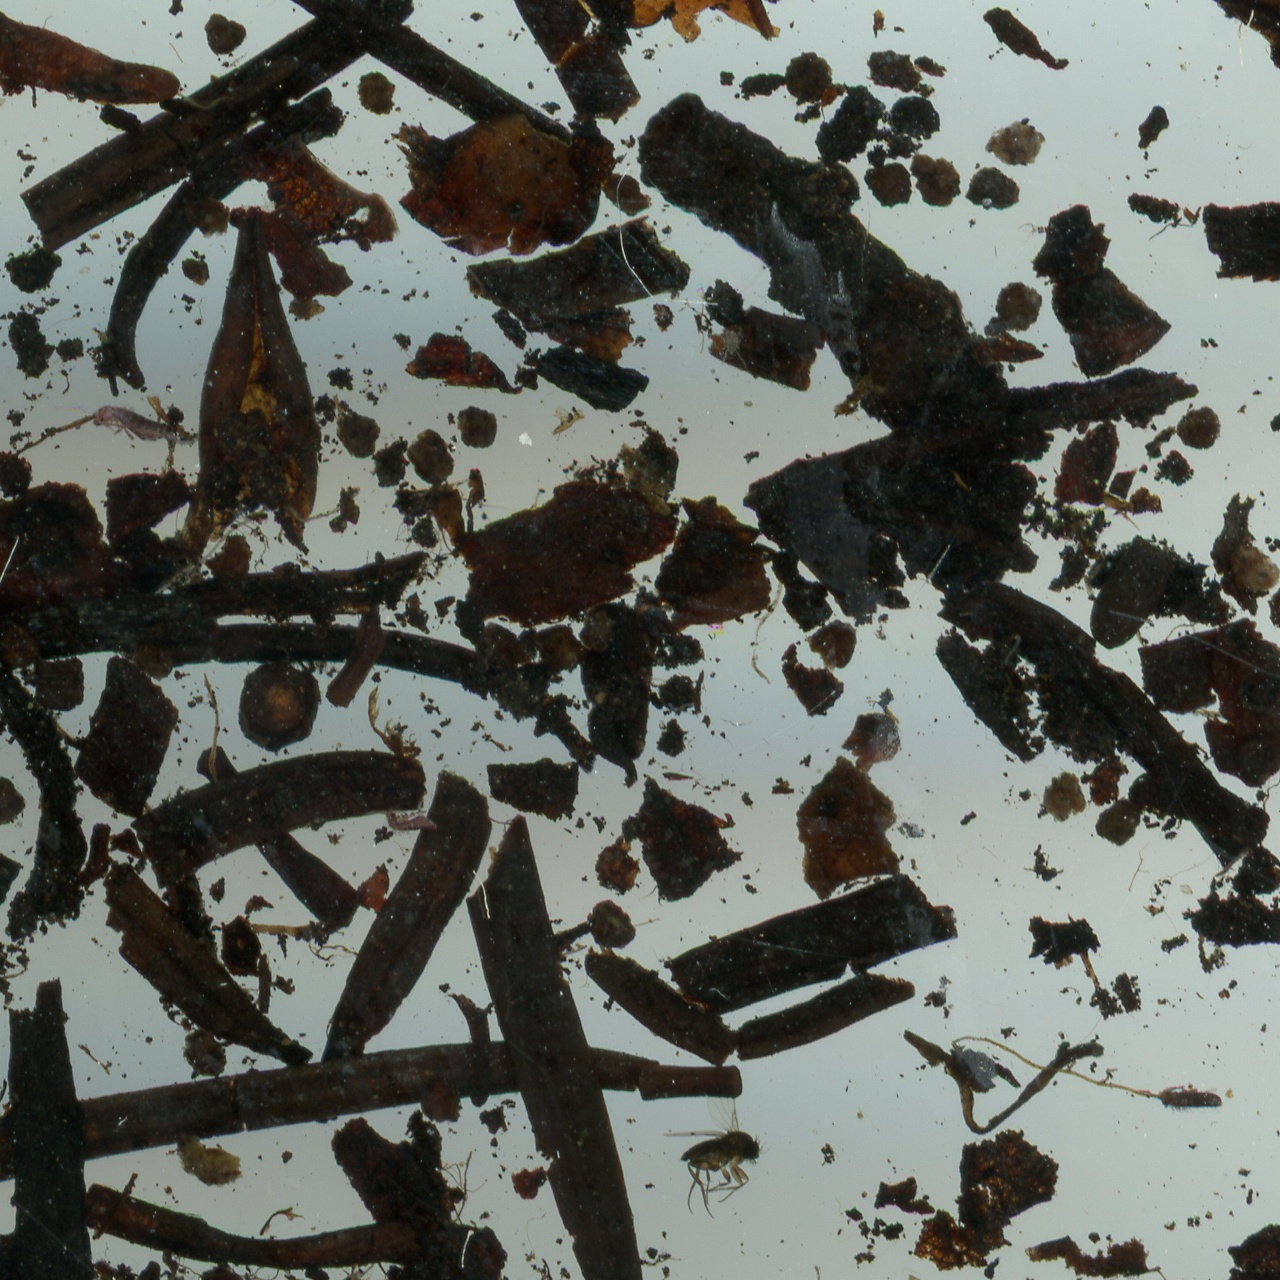arthropod: (661, 1096, 763, 1219), (87, 403, 199, 444), (1155, 1087, 1224, 1114), (381, 808, 437, 833)
